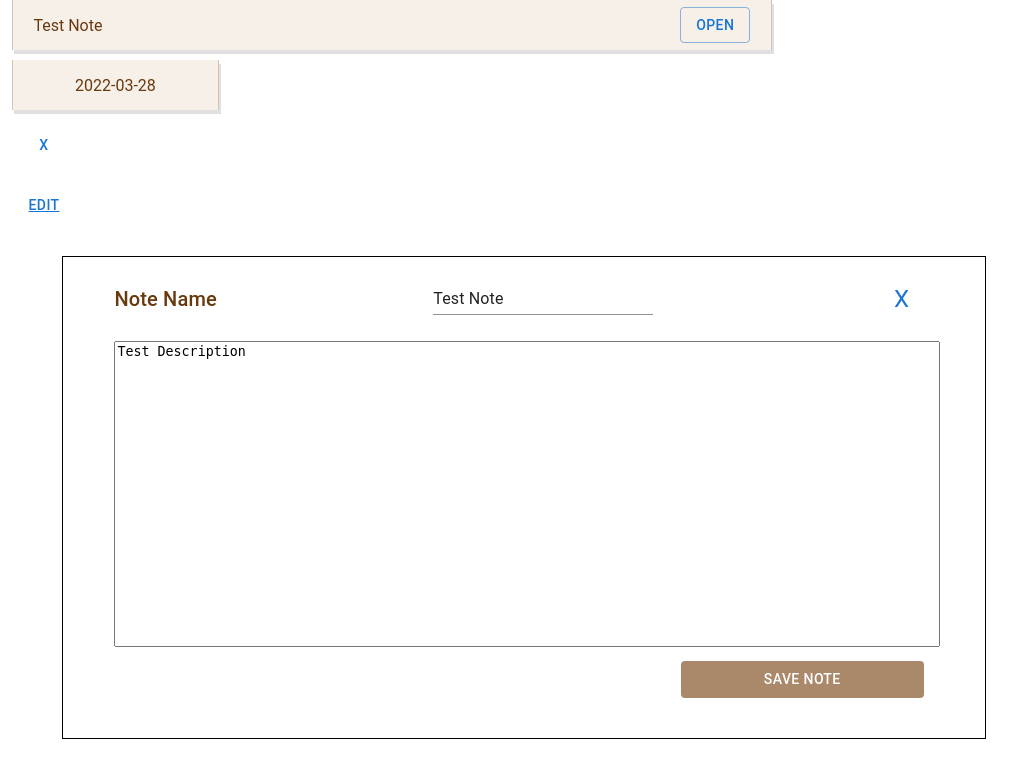
Testing <NotesRow /> Component › should have edit modal open › should close modal
Click the button with id "close-note-edit-modal-button" at (902, 300), box [870,278,934,322]
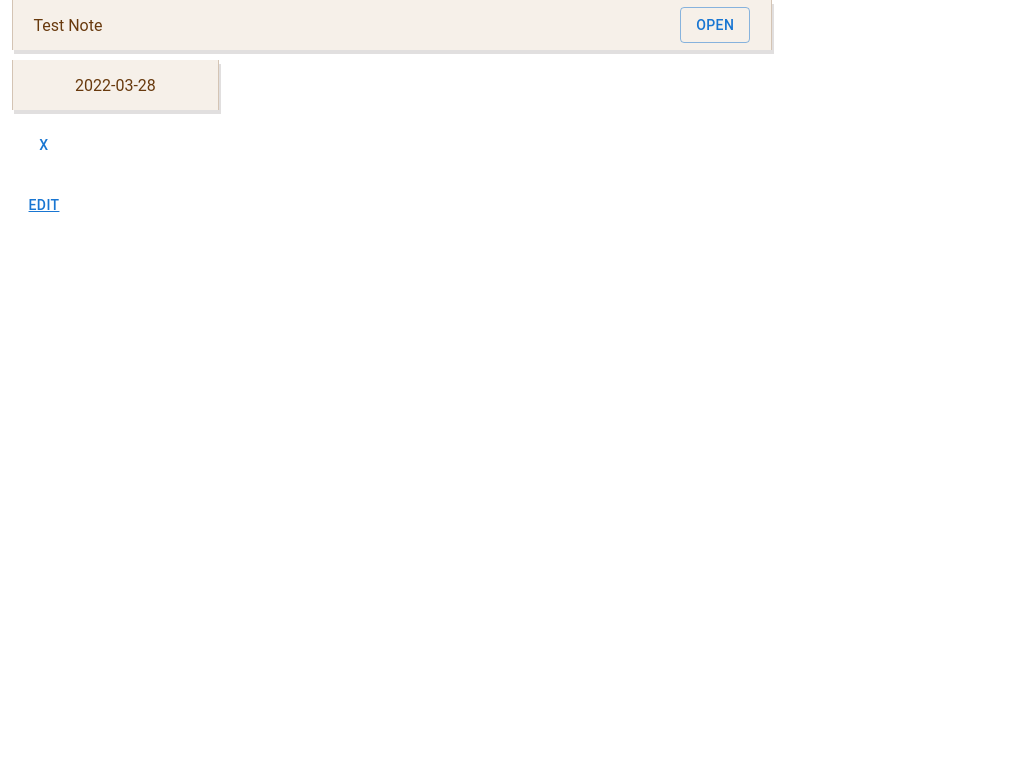
Expected: the element with class "overlayBox" is gone
